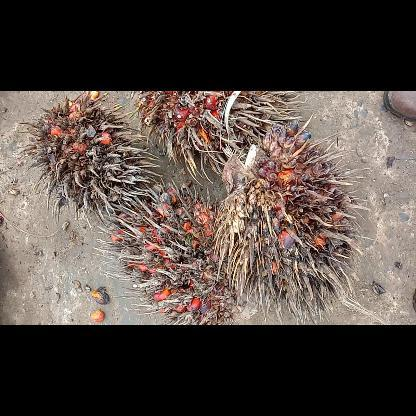Terlalu masak: (209, 116, 367, 324), (89, 178, 263, 324), (10, 90, 167, 232), (128, 91, 312, 187)
